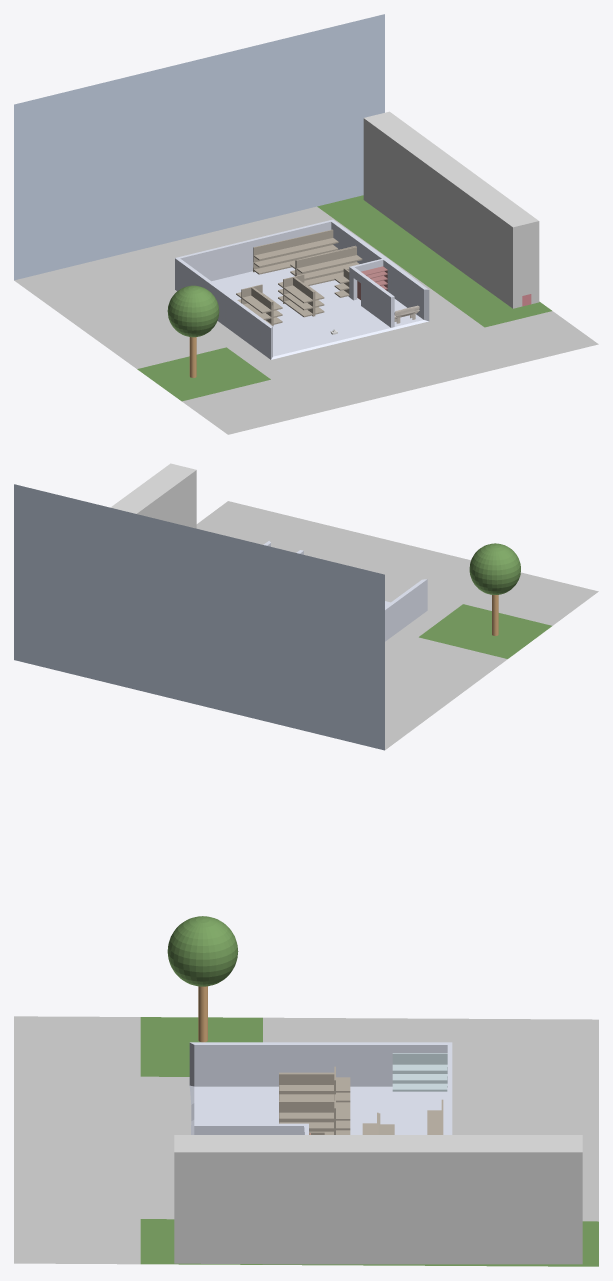
Rendered from convenient_REDO.fbx.
3 renders of one model, top to bottom at view 1: azimuth 30°, elevation 25°; view 2: azimuth 150°, elevation 25°; view 3: azimuth 270°, elevation 25°, orthographic. The views are drawn at different scales.
Visible parts, largest first — view 1: Plane.001, Plane, Cube.001, store, store .001, shelf.001, Sphere, shelf.004, shelf.008, shelf.005; view 2: Plane.001, Plane, Cube.001, Sphere, store; view 3: Plane, Cube.001, store, store .001, Sphere, shelf.011, shelf.012, shelf.007.
Boxes of the visible parts, x1,y1,x2,y2 form: Plane.001: (14, 14, 384, 280); Plane: (14, 195, 598, 434); Cube.001: (363, 111, 539, 308); store: (175, 219, 429, 359); store .001: (212, 267, 428, 359); shelf.001: (253, 229, 338, 274); Sphere: (167, 285, 219, 337); shelf.004: (296, 246, 362, 285); shelf.008: (284, 277, 314, 317); shelf.005: (242, 287, 272, 325); Plane.001: (14, 484, 384, 750); Plane: (196, 501, 598, 749); Cube.001: (110, 463, 196, 528); Sphere: (469, 543, 520, 594); store: (263, 541, 427, 641); Plane: (14, 1016, 598, 1266); Cube.001: (174, 1135, 582, 1264); store: (189, 1042, 452, 1134); store .001: (189, 1085, 447, 1134); Sphere: (167, 916, 238, 986); shelf.011: (392, 1053, 447, 1091); shelf.012: (279, 1073, 334, 1100); shelf.007: (279, 1101, 334, 1134).
Bounding box in the file's own units: 12306 × 5578 × 12306.
